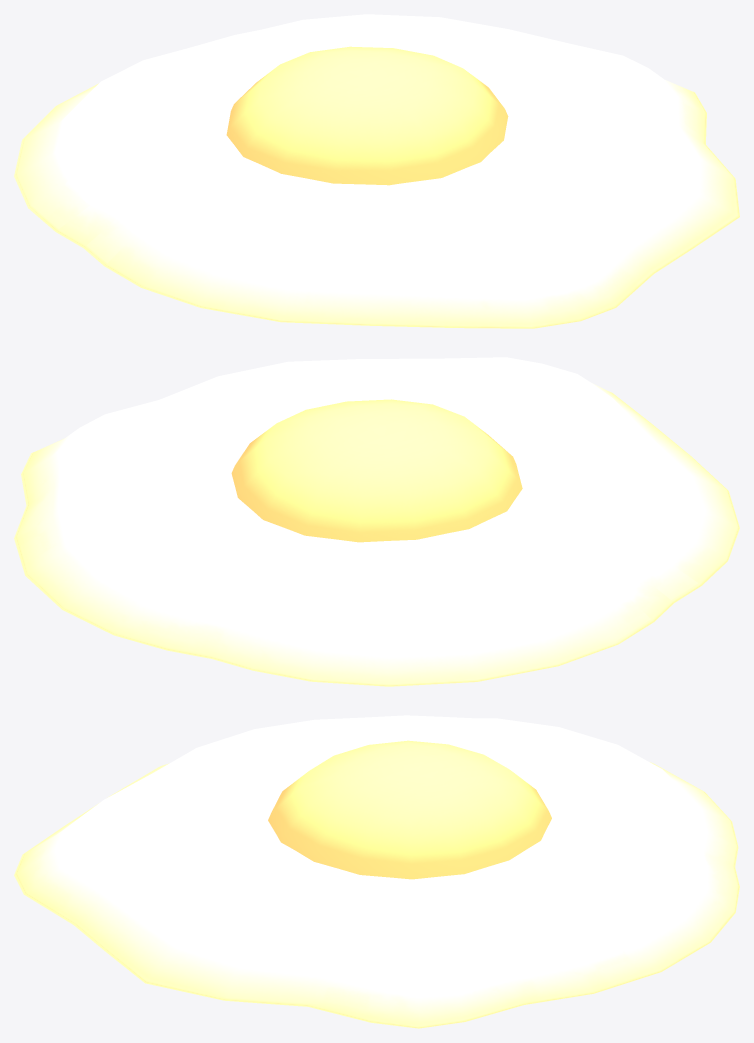
File: fried_egg_breakfast_model.glb
3 renders of one model, top to bottom at view 1: azimuth 30°, elevation 25°; view 2: azimuth 150°, elevation 25°; view 3: azimuth 270°, elevation 25°, orthographic. The views are drawn at different scales.
Visible parts, largest first — view 1: Cube.006, Cube.007; view 2: Cube.006, Cube.007; view 3: Cube.006, Cube.007.
Boxes of the visible parts, bbox=[...] form: Cube.006: bbox=[14, 14, 739, 328]; Cube.007: bbox=[226, 46, 508, 185]; Cube.006: bbox=[14, 357, 739, 686]; Cube.007: bbox=[231, 399, 522, 542]; Cube.006: bbox=[14, 715, 739, 1028]; Cube.007: bbox=[268, 740, 551, 879].
Size of the model in its own units: 0.1885 by 0.0301 by 0.1938.
Materials: 2 (2 with a texture image).
